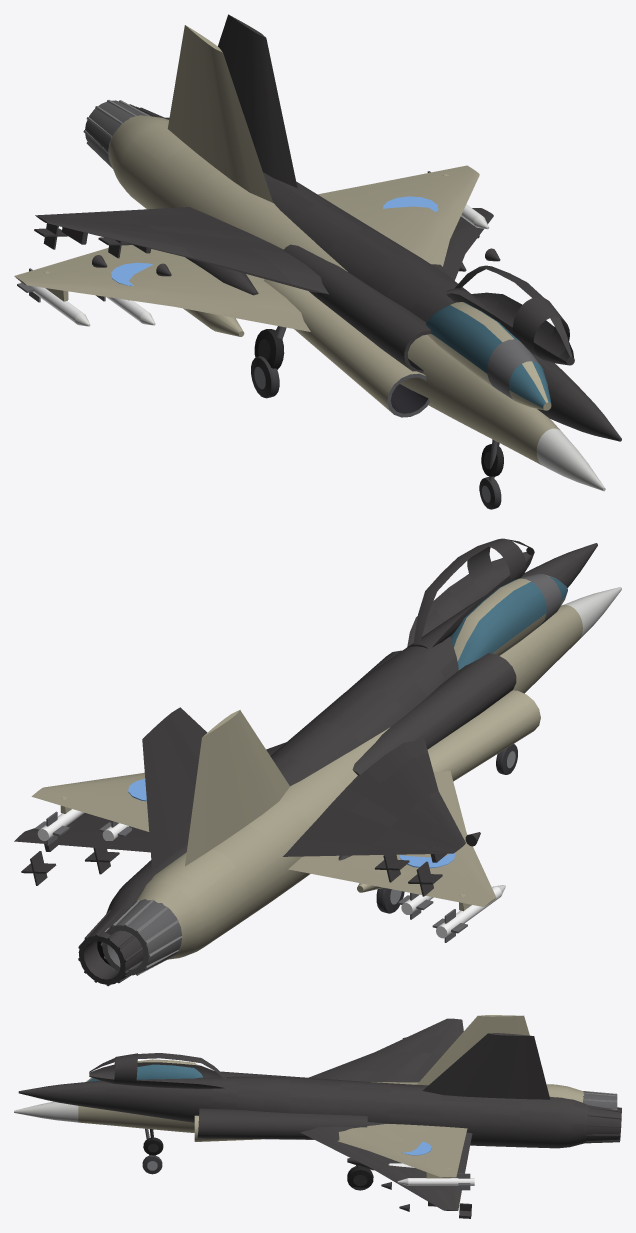
File: attackJet__mirage_5.glb
3 views of the same model, one above another, from view 1: azimuth 30°, elevation 25°; view 2: azimuth 150°, elevation 25°; view 3: azimuth 270°, elevation 25° (orthographic). The views are drawn at different scales.
Visible parts, largest first — view 1: Fuselage_Mesh, Wreck; view 2: Fuselage_Mesh, Wreck; view 3: Wreck, Fuselage_Mesh.
Boxes of the visible parts, x1,y1,x2,y2 form: Fuselage_Mesh: (14, 25, 605, 509); Wreck: (34, 14, 621, 476); Fuselage_Mesh: (31, 573, 621, 975); Wreck: (14, 538, 597, 986); Wreck: (18, 1018, 621, 1218); Fuselage_Mesh: (14, 1015, 617, 1190).
Size of what is drawn, in the model's own units: 8.51 by 4.5 by 15.7.
